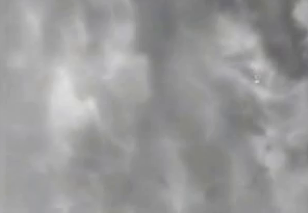Target: (255, 81, 258, 83)
